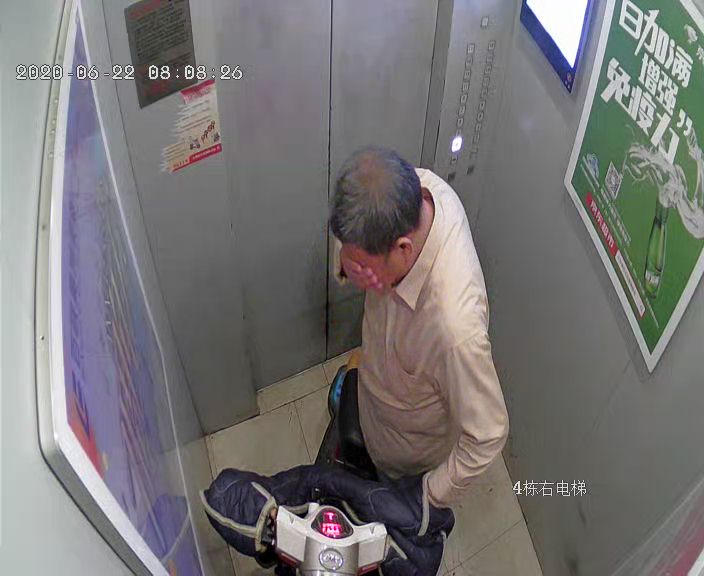Electric-bicycle: (213, 357, 439, 576)
